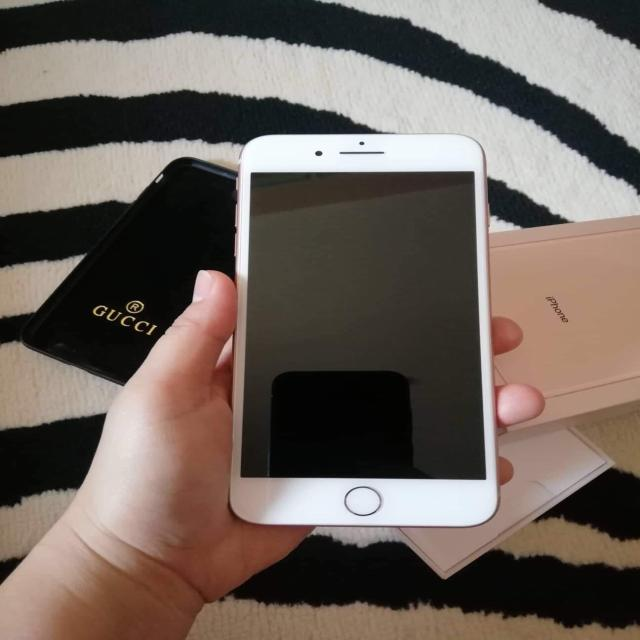phone good: (226, 132, 502, 531)
